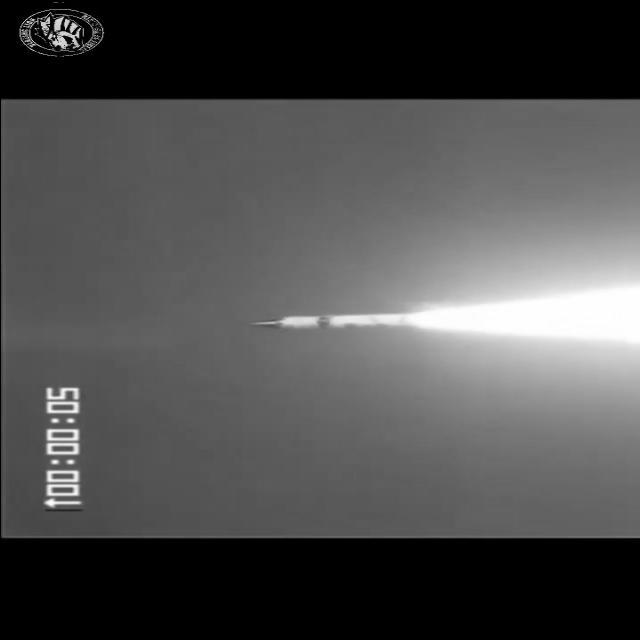Missile: (240, 308, 430, 334)
